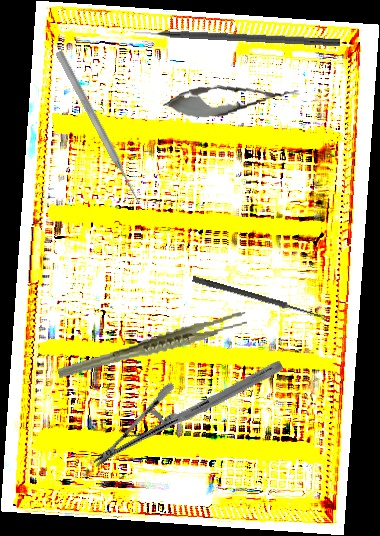Hook Surgical: (133, 25, 341, 47)
Micro Scissor: (161, 74, 303, 124)
Needle Holder: (90, 305, 286, 523)
Pusher: (53, 49, 144, 206)
Surgical Spoon: (191, 275, 329, 322)
Tissue Forceps: (54, 311, 251, 379)
